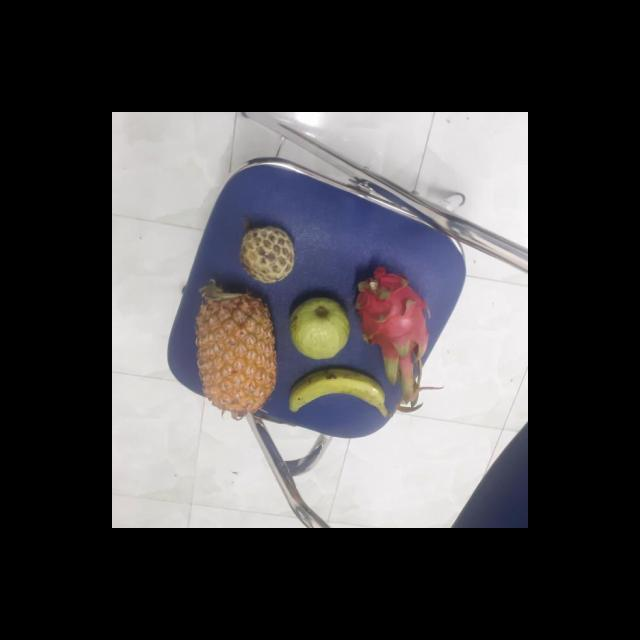Sakya fruit: (236, 225, 295, 282)
banana: (286, 368, 388, 418)
pear: (285, 295, 349, 359)
pineapple: (192, 282, 278, 418)
pitaya: (352, 272, 429, 383)
